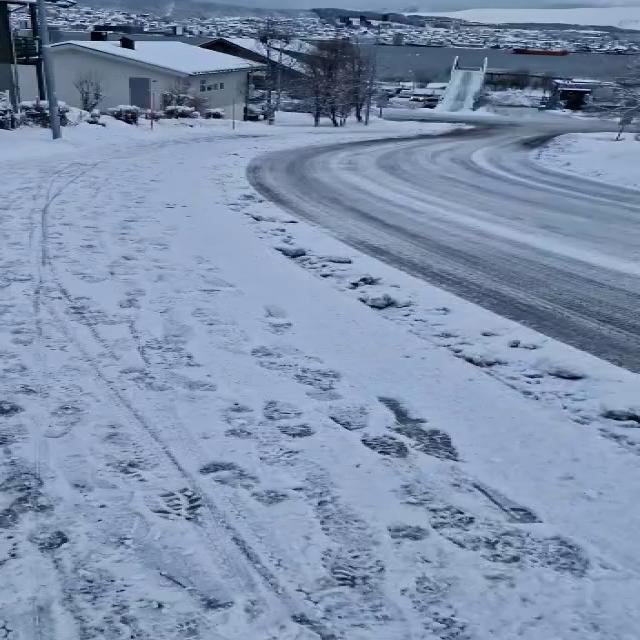path: (247, 110, 640, 370)
